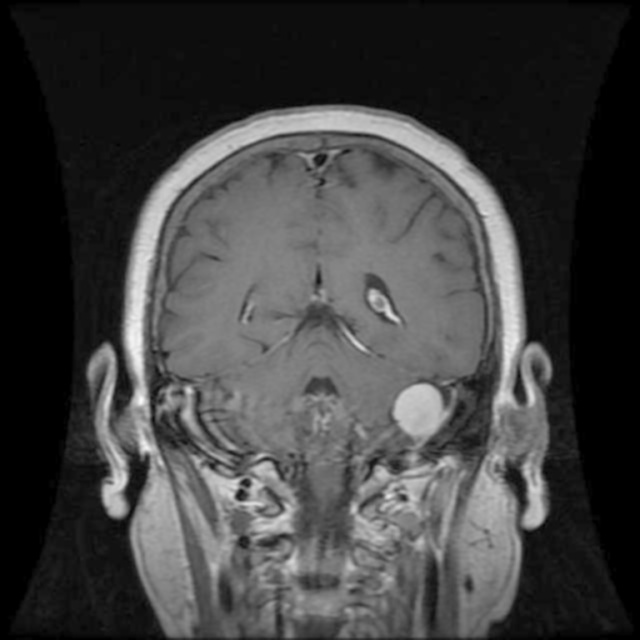meningioma tumor: (378, 368, 468, 448)
